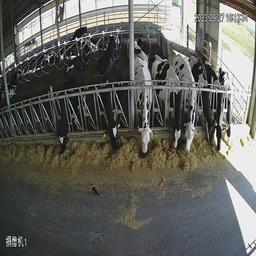cow: (56, 55, 92, 160), (151, 45, 183, 162), (171, 36, 197, 154), (99, 49, 125, 155), (191, 47, 216, 148), (134, 51, 155, 162), (206, 57, 225, 154), (220, 62, 238, 143), (173, 200, 174, 201)
